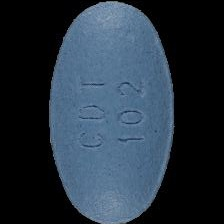54868-5209: (0, 0, 224, 224)
